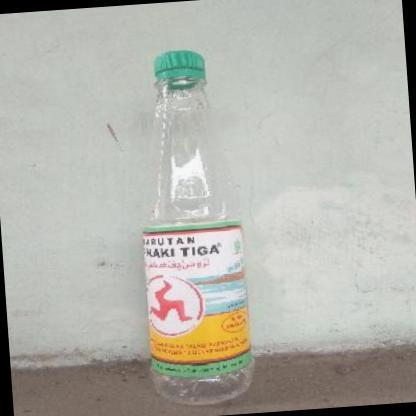plastic_bottles: (126, 43, 263, 415)
